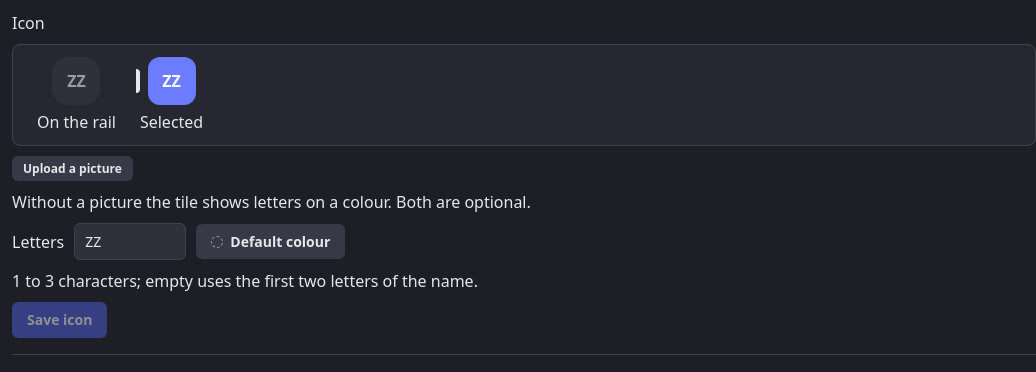
Scenario: the letters › cannot be saved until something changes
expect the button "Save icon" is disabled: met, box [12,302,107,338]
Replace the text in the field labelled "Letters" with "ZY" at (130, 242), box [74,223,186,260]
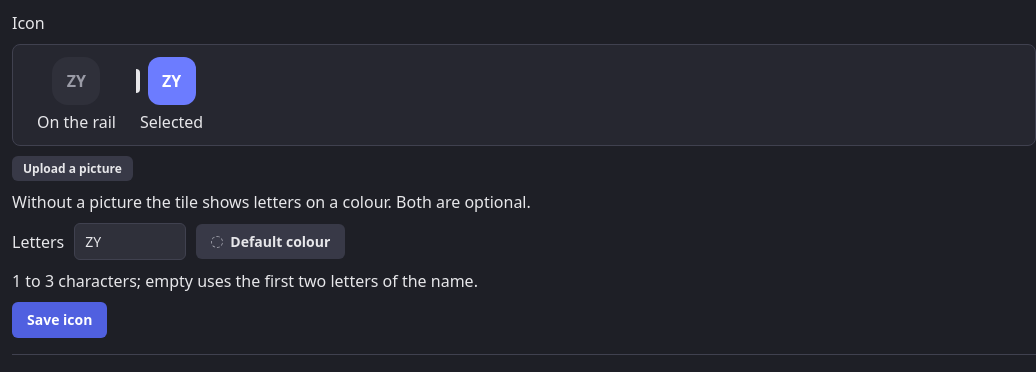
expect the button "Save icon" is enabled: met, box [12,302,107,338]
Replace the text in the field labelled "Letters" with "ZZ" at (130, 242), box [74,223,186,260]
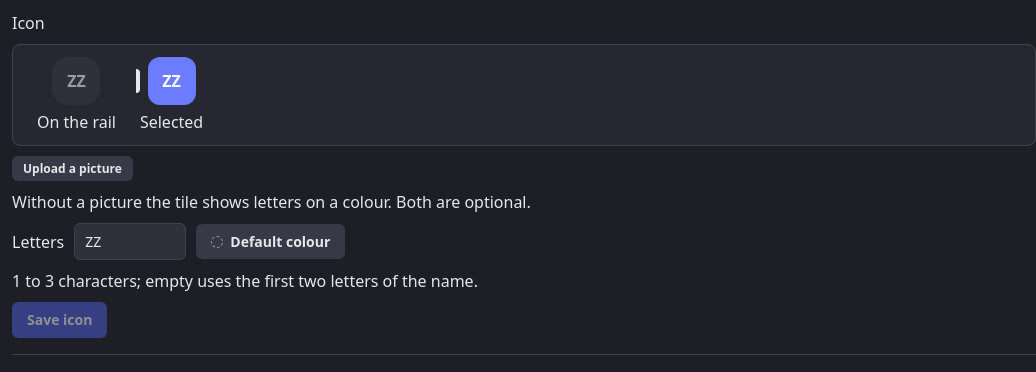
expect the button "Save icon" is disabled: met, box [12,302,107,338]
